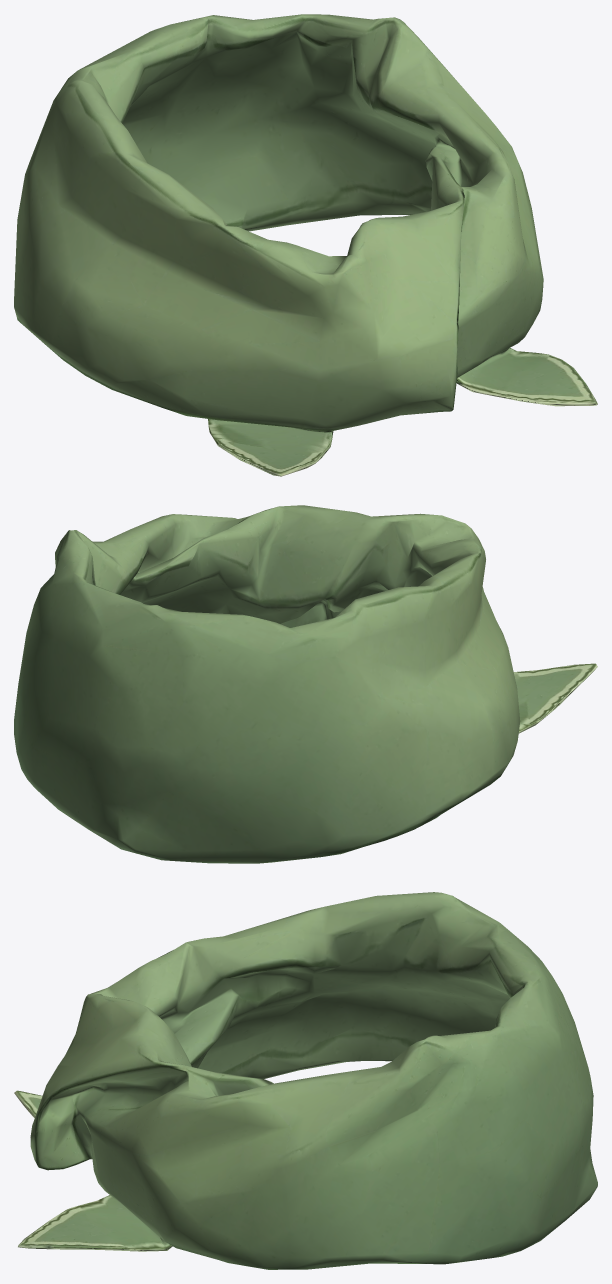
The model's file is qa-scarf.glb.
The picture shows the model from 3 angles, top to bottom: view 1: azimuth 30°, elevation 25°; view 2: azimuth 150°, elevation 25°; view 3: azimuth 270°, elevation 25°; orthographic projection. The views are drawn at different scales.
Size of the model in its own units: 1.64 by 0.8555 by 1.89.
Materials: 1 (1 with a texture image).
